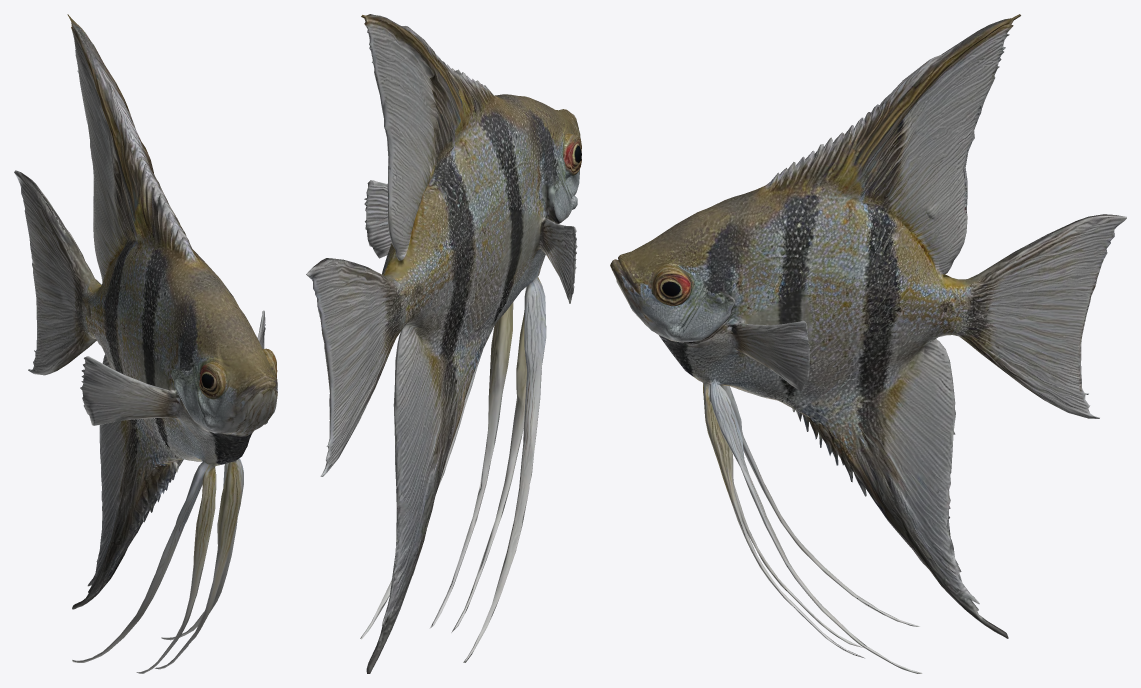
Rendered from angelfish.glb.
3 views of the same model, side by side, from view 1: azimuth 30°, elevation 25°; view 2: azimuth 150°, elevation 25°; view 3: azimuth 270°, elevation 25° (orthographic). The views are drawn at different scales.
Visible parts, largest first — view 1: tripo_node_3ae4be00-2dc2-4d83-8ad4-bea6756f9093; view 2: tripo_node_3ae4be00-2dc2-4d83-8ad4-bea6756f9093; view 3: tripo_node_3ae4be00-2dc2-4d83-8ad4-bea6756f9093.
Part boxes in pixels (x1,y1,x2,y2): tripo_node_3ae4be00-2dc2-4d83-8ad4-bea6756f9093: (14,14,277,673); tripo_node_3ae4be00-2dc2-4d83-8ad4-bea6756f9093: (306,14,581,673); tripo_node_3ae4be00-2dc2-4d83-8ad4-bea6756f9093: (610,14,1126,673).
Size of the model in its own units: 0.325 by 0.9994 by 0.7343.
1 material, 1 textured.
